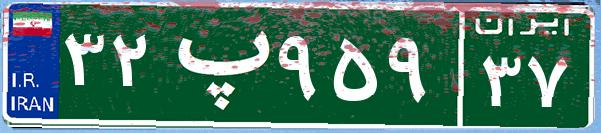2: (110, 28, 158, 105)
3: (57, 26, 110, 107), (475, 38, 525, 113)
5: (330, 28, 385, 110)
7: (525, 38, 570, 115)
9: (385, 28, 445, 110), (273, 28, 330, 110)
پ: (158, 15, 273, 115)
